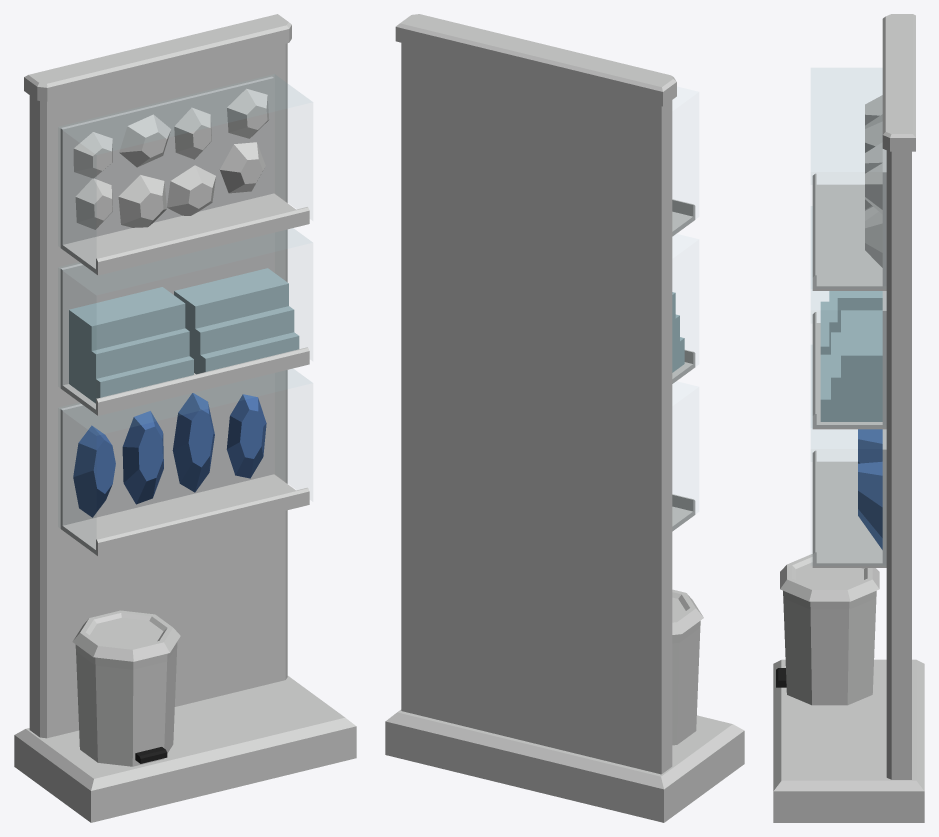
The model's file is ppe-dispenser-station-922eaf.glb.
The picture shows the model from 3 angles, left to right: view 1: azimuth 30°, elevation 25°; view 2: azimuth 150°, elevation 25°; view 3: azimuth 270°, elevation 25°; orthographic projection. The views are drawn at different scales.
Visible parts, largest first — view 1: station, bin-drum, bin-lid-disc, pocket-glazing; view 2: station, bin-drum, bin-lid-disc; view 3: station, bin-drum, pocket-glazing, bin-lid-disc.
Part boxes in pixels (left/top/right/bottom): station: left=14, top=14, right=356, bottom=822; bin-drum: left=75, top=641, right=177, bottom=766; bin-lid-disc: left=72, top=610, right=180, bottom=661; pocket-glazing: left=275, top=75, right=312, bottom=391; station: left=385, top=14, right=744, bottom=822; bin-drum: left=672, top=621, right=700, bottom=745; bin-lid-disc: left=672, top=589, right=703, bottom=634; station: left=773, top=14, right=924, bottom=822; bin-drum: left=783, top=590, right=876, bottom=705; pocket-glazing: left=811, top=68, right=881, bottom=461; bin-lid-disc: left=780, top=554, right=879, bottom=601.
Size of the model in its own units: 0.6 by 1.5 by 0.3.
